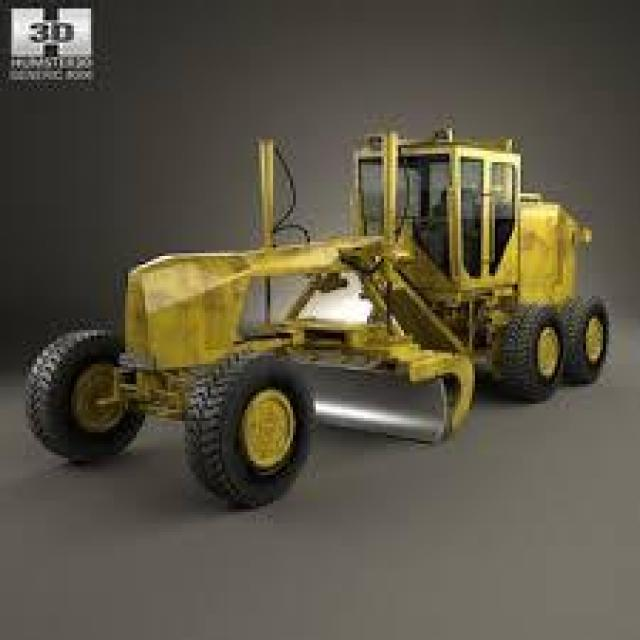buldozerpayloadergrader: (31, 88, 620, 492)
